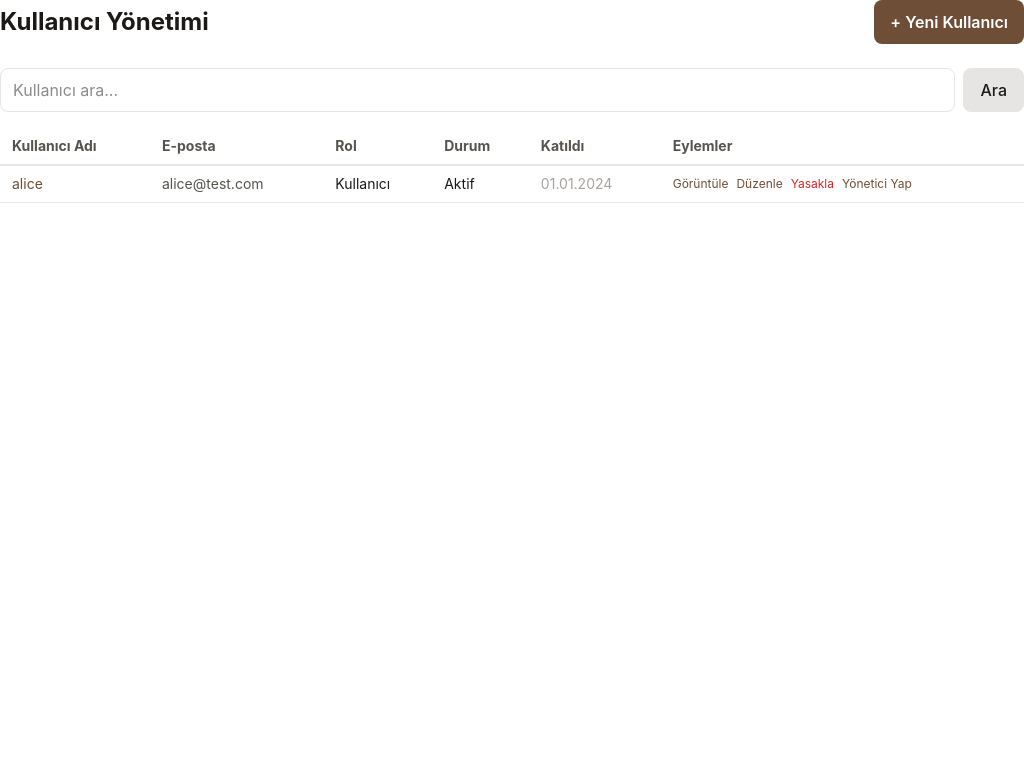
Test: AdminUsersPage — ban/unban flow › opens ban dialog when ban button is clicked
Expected: the link "alice" is shown, [12, 175, 43, 192]
What coordinates should you click on to do the following:
click the button "Yasakla"
I would click on:
 (812, 184)
Its box is [791, 176, 834, 192].
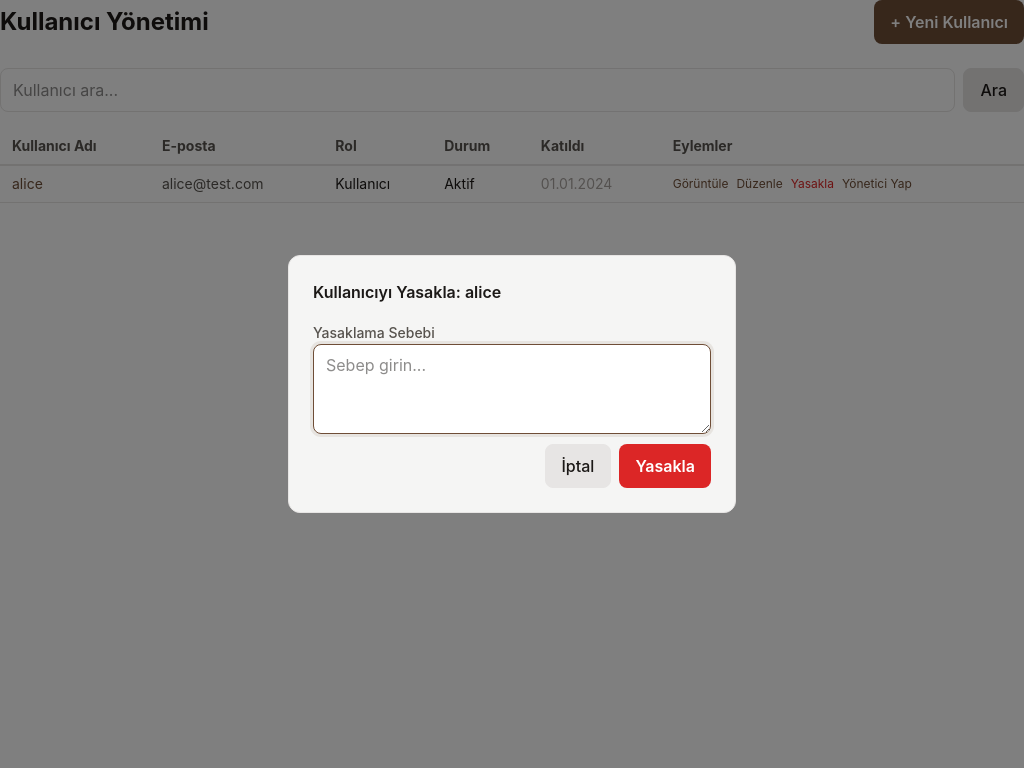
Now the heading "Kullanıcıyı Yasakla: alice" is shown, box [313, 282, 501, 302]
